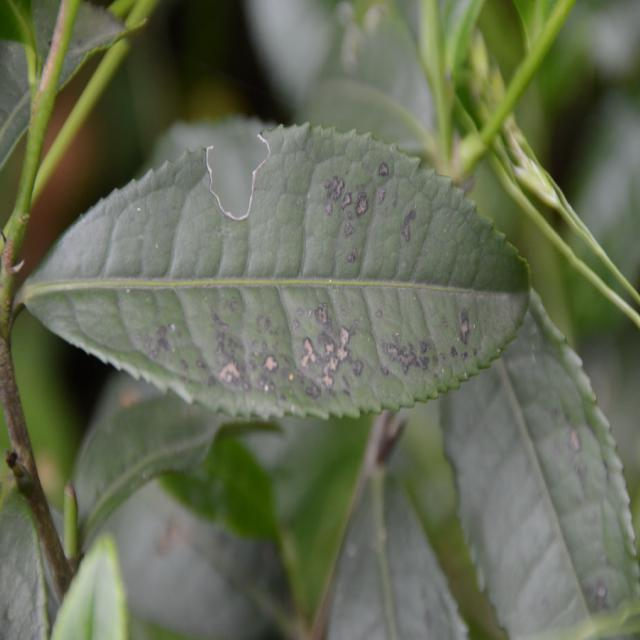Tea algae leaf spot: (98, 134, 508, 409)
